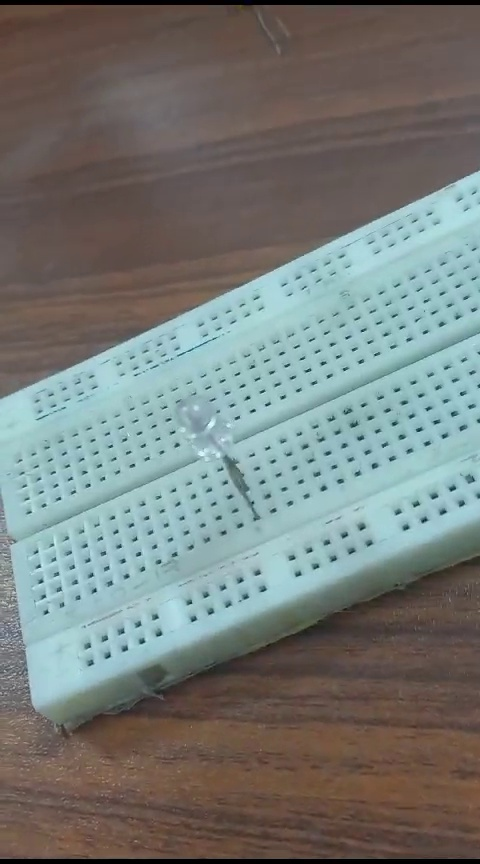LED: (156, 391, 259, 531)
